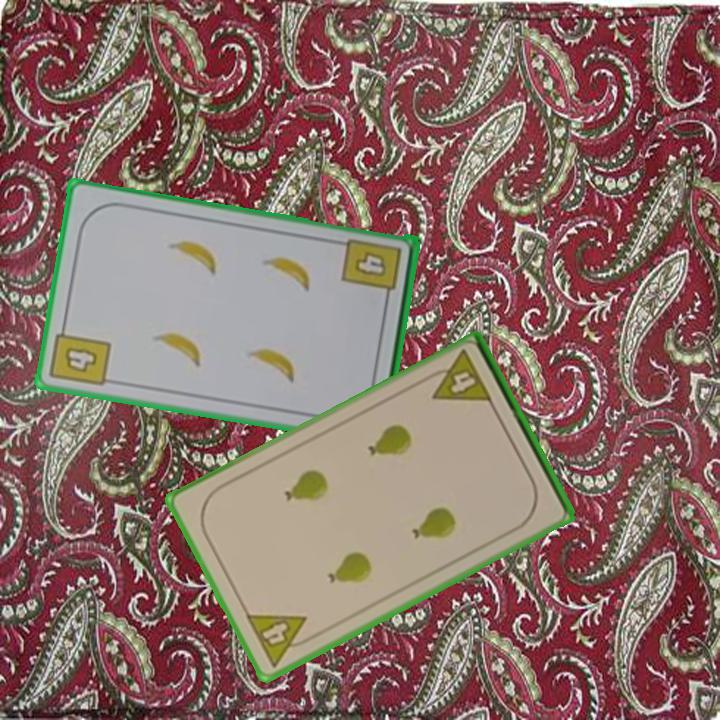4b: (46, 319, 114, 390), (338, 235, 405, 306)
4p: (242, 610, 319, 670), (420, 346, 495, 407)
